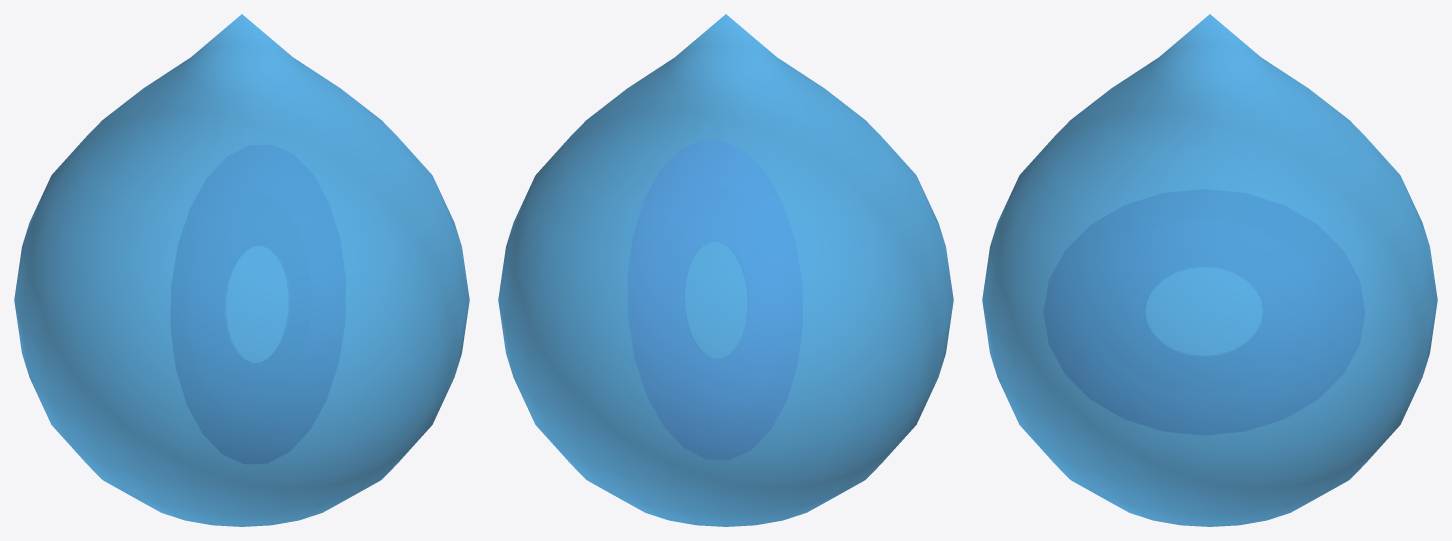
File: dropleteye.fbx
3 views of the same model, side by side, from view 1: azimuth 30°, elevation 25°; view 2: azimuth 150°, elevation 25°; view 3: azimuth 270°, elevation 25° (orthographic).
Visible parts, largest first — view 1: Group2; view 2: Group2; view 3: Group2.
Boxes of the visible parts, x1,y1,x2,y2 form: Group2: (14,14,469,526); Group2: (498,14,953,526); Group2: (982,14,1437,526).
Bounding box in the file's own units: 93.28 × 111 × 93.28.
